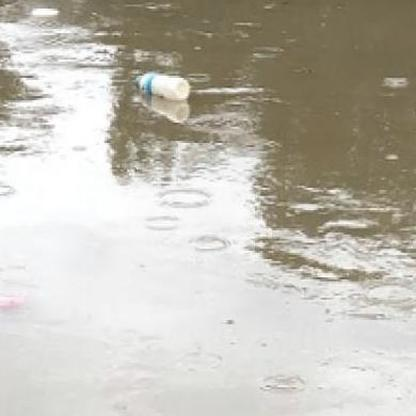plastic bottle: (135, 73, 190, 99)
